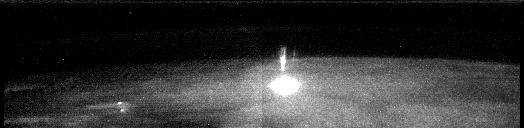positive: (276, 45, 290, 73)
